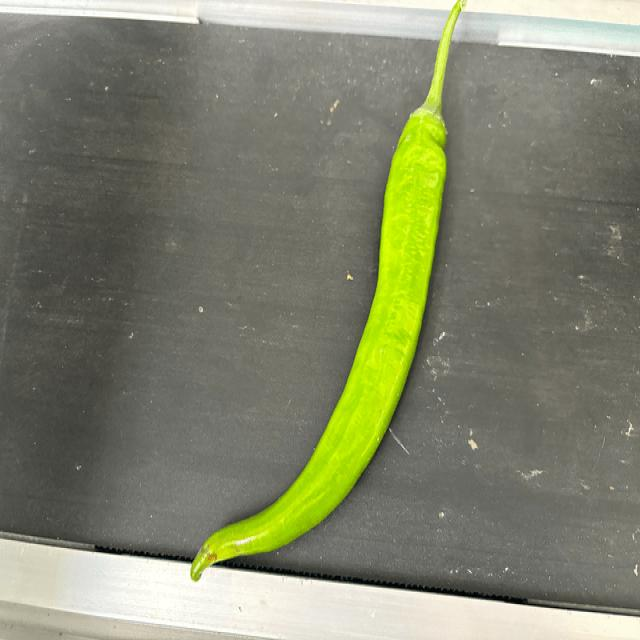chili: (187, 105, 450, 582)
